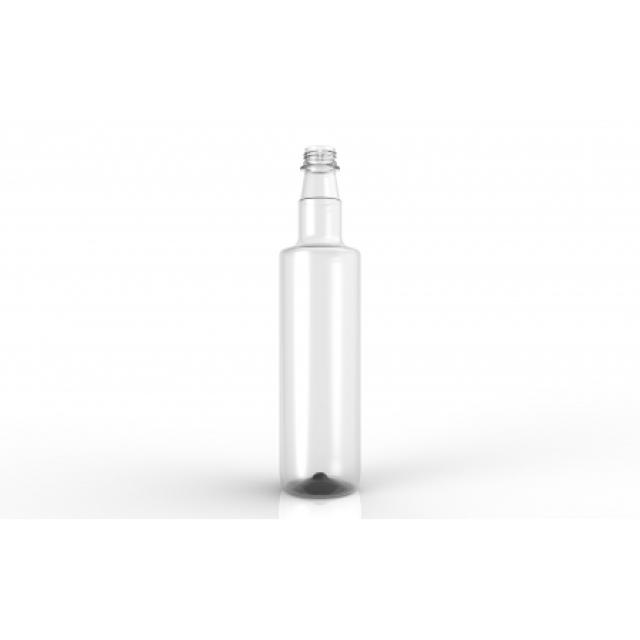bottom: (261, 455, 372, 507)
no_cap: (290, 136, 342, 182)
